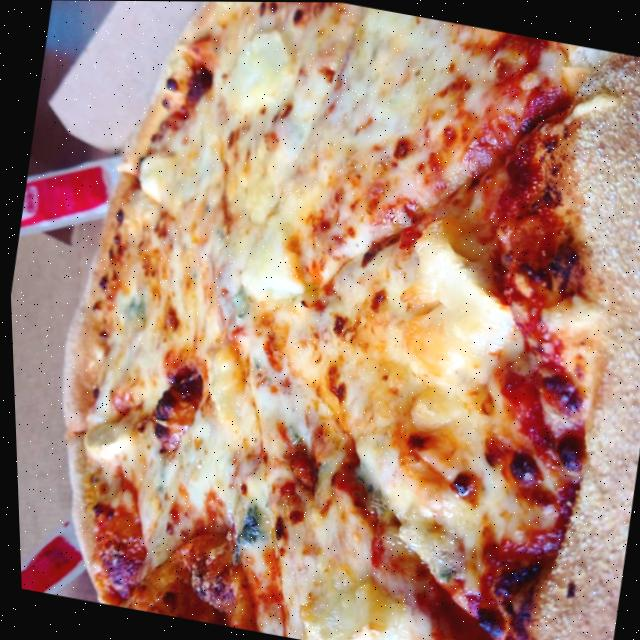pizza: (6, 0, 640, 640)
